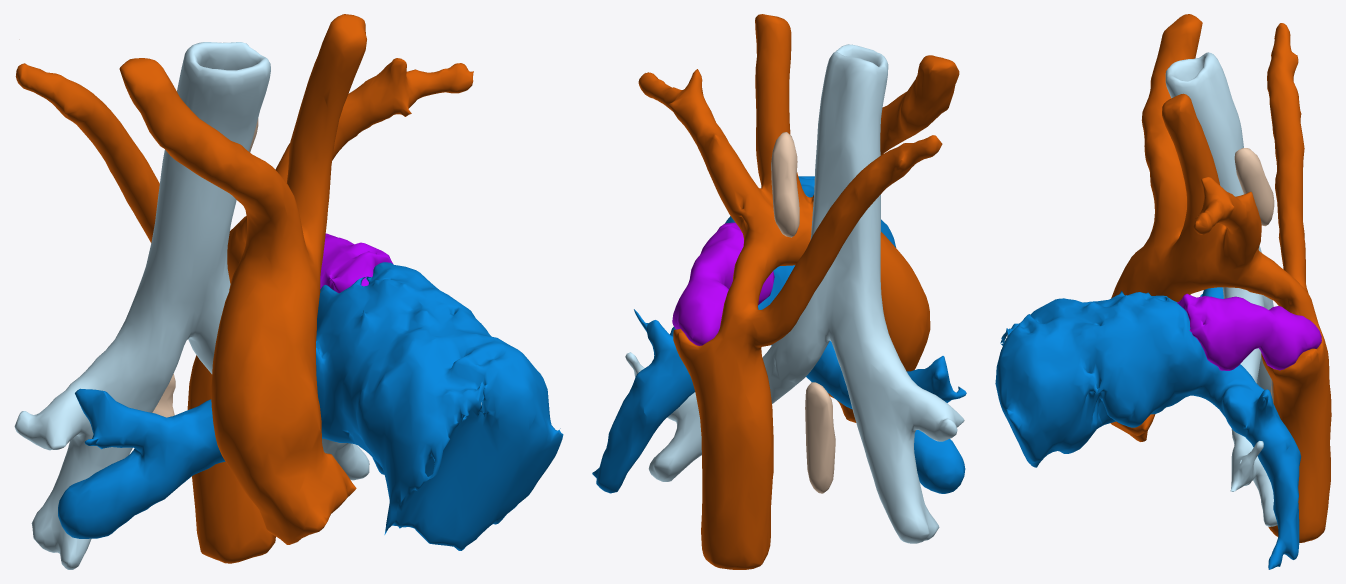
Rendered from Arteria lusoria.gltf.
3 renders of one model, left to right at view 1: azimuth 30°, elevation 25°; view 2: azimuth 150°, elevation 25°; view 3: azimuth 270°, elevation 25°, orthographic. The views are drawn at different scales.
Parts seen in each view (by area): view 1: aorta, pa, trachea, pda; view 2: aorta, trachea, pa, esophagus, pda; view 3: aorta, pa, trachea, pda, esophagus.
Part boxes in pixels (<box>): aorta: <box>15,14,473,563</box>; pa: <box>58,262,563,550</box>; trachea: <box>14,42,369,569</box>; pda: <box>320,233,392,293</box>; aorta: <box>638,14,959,569</box>; trachea: <box>625,44,964,543</box>; pa: <box>592,176,966,493</box>; esophagus: <box>771,132,835,493</box>; pda: <box>672,222,774,345</box>; aorta: <box>1110,14,1331,542</box>; pa: <box>995,287,1301,569</box>; trachea: <box>1165,52,1277,526</box>; pda: <box>1177,293,1321,370</box>; esophagus: <box>1234,148,1274,403</box>.
Size of the model in its own units: 34.9 by 45.38 by 30.58.
